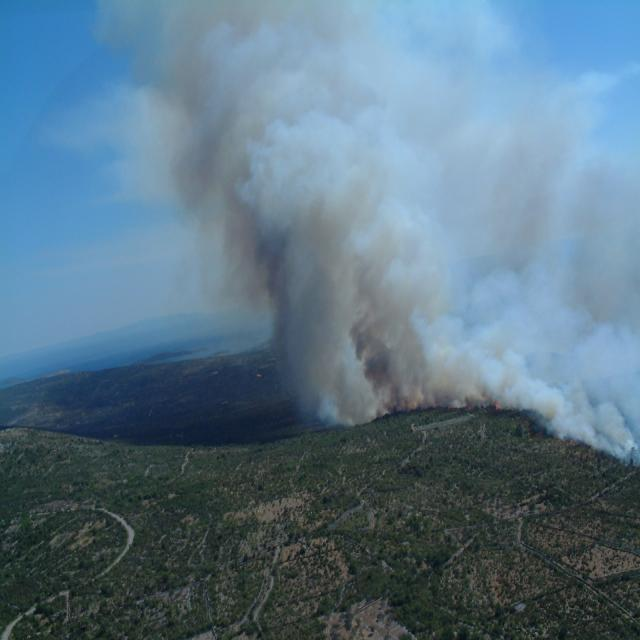Smoke: (96, 1, 640, 468)
